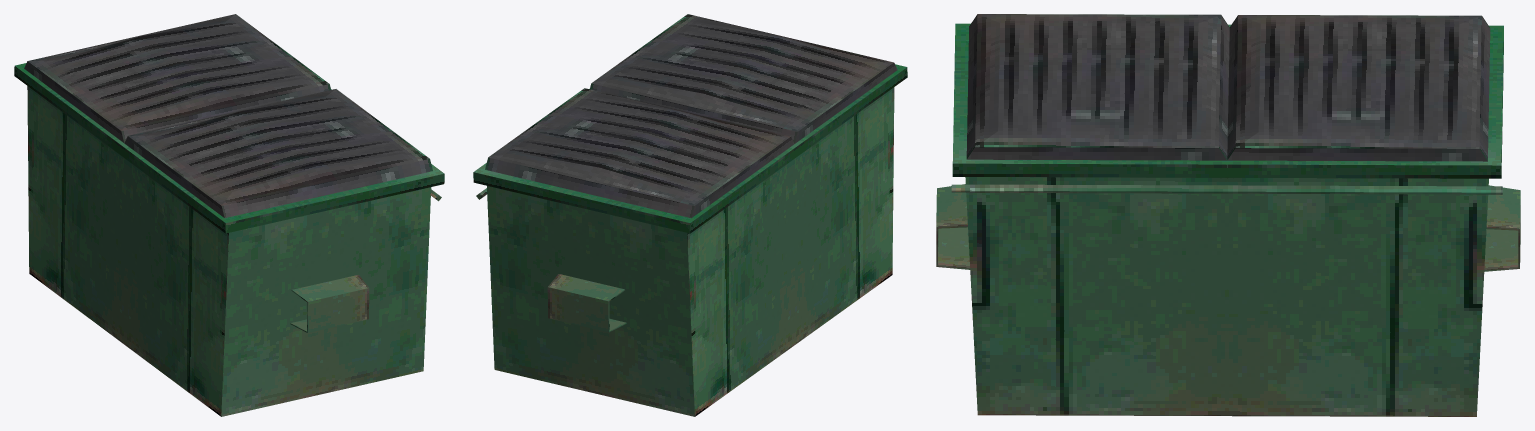
File: dumpster_lid_closed.glb
The picture shows the model from 3 angles, left to right: view 1: azimuth 30°, elevation 25°; view 2: azimuth 150°, elevation 25°; view 3: azimuth 270°, elevation 25°; orthographic projection. The views are drawn at different scales.
Visible parts, largest first — view 1: dumpster_lid_closed; view 2: dumpster_lid_closed; view 3: dumpster_lid_closed.
Part boxes in pixels (left/top/right/bottom): dumpster_lid_closed: left=14, top=14, right=444, bottom=416; dumpster_lid_closed: left=473, top=14, right=907, bottom=416; dumpster_lid_closed: left=936, top=14, right=1520, bottom=416.
Size of the model in its own units: 2.06 by 1.96 by 3.68.
1 material, 1 textured.
